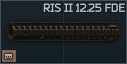AR-15 Daniel Defense RIS II 12.25 handguard: (0, 0, 127, 64)
